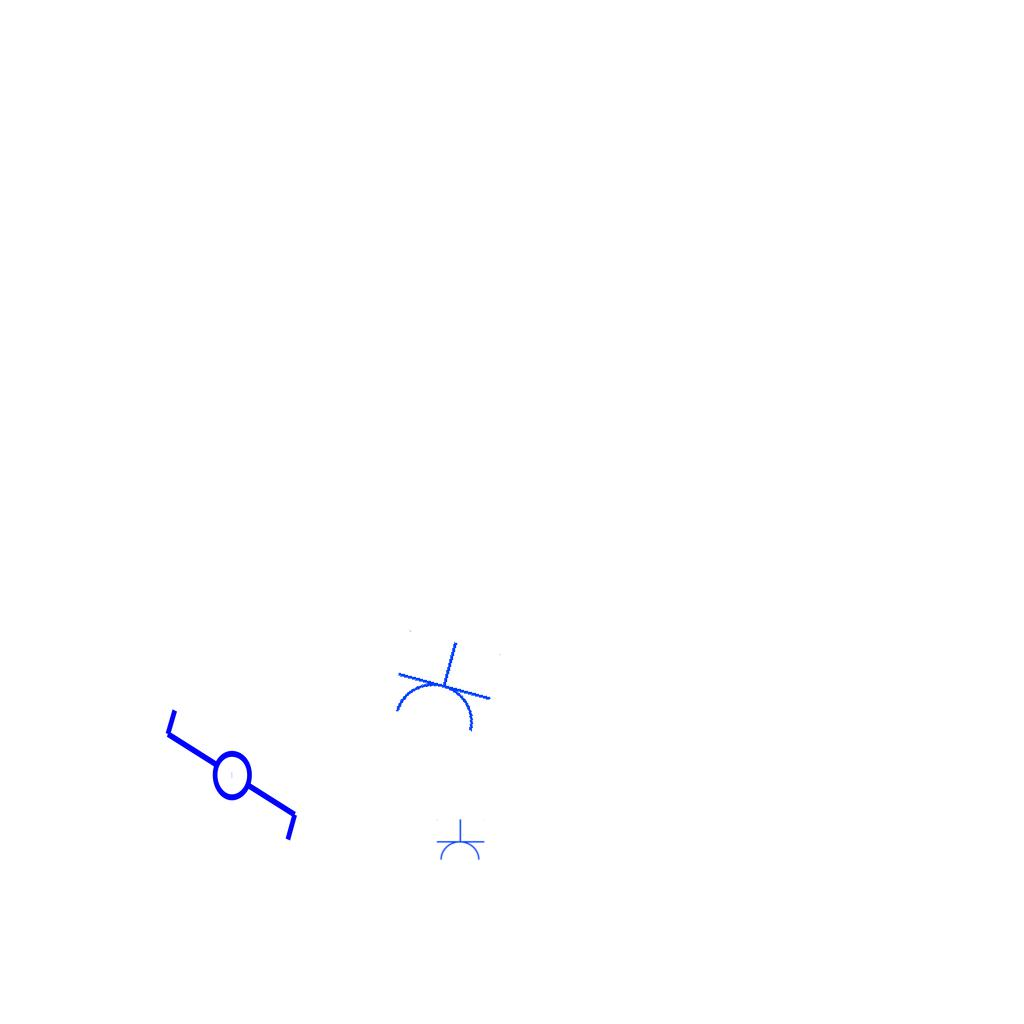Schukosteckdose_einfach: (384, 628, 504, 739), (435, 819, 485, 862)
Wechselschalter: (158, 705, 302, 862)
